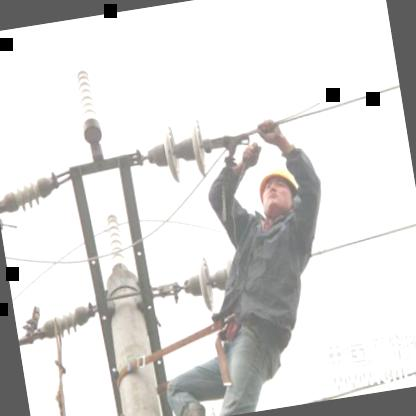helmet: (246, 145, 308, 229)
